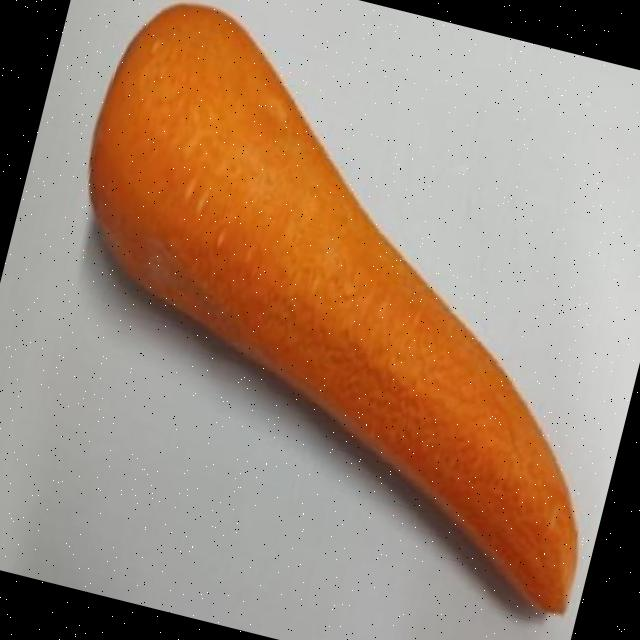carrot: (90, 4, 576, 612)
